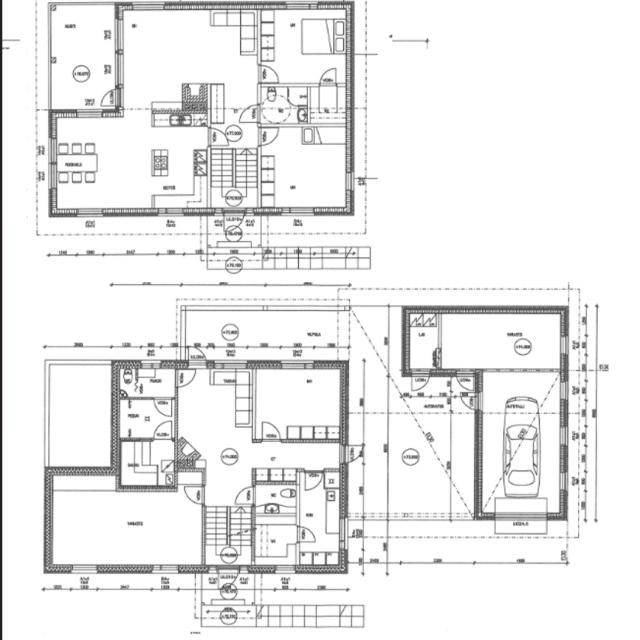door: (219, 208, 249, 234), (214, 564, 242, 591), (407, 367, 432, 393), (458, 388, 484, 413), (454, 367, 478, 392), (343, 441, 368, 464), (152, 395, 176, 418), (184, 484, 208, 507), (259, 420, 281, 445), (303, 468, 324, 494), (257, 62, 279, 86), (208, 126, 229, 150), (173, 366, 196, 387), (234, 486, 256, 507), (295, 524, 317, 545), (152, 420, 174, 441), (240, 103, 260, 125), (319, 65, 339, 87), (260, 126, 280, 145), (100, 88, 118, 109)
window: (111, 17, 126, 92), (492, 510, 554, 527), (278, 358, 319, 372), (127, 1, 170, 14), (48, 137, 58, 192), (67, 561, 101, 577), (282, 1, 322, 14), (212, 358, 249, 371), (150, 561, 181, 576), (280, 206, 317, 218), (72, 207, 105, 219), (155, 207, 186, 219), (559, 331, 572, 358), (74, 109, 103, 121), (138, 359, 164, 372), (558, 424, 571, 449), (345, 168, 357, 194), (341, 516, 349, 555), (273, 563, 298, 575), (558, 379, 569, 404), (561, 467, 570, 493)
